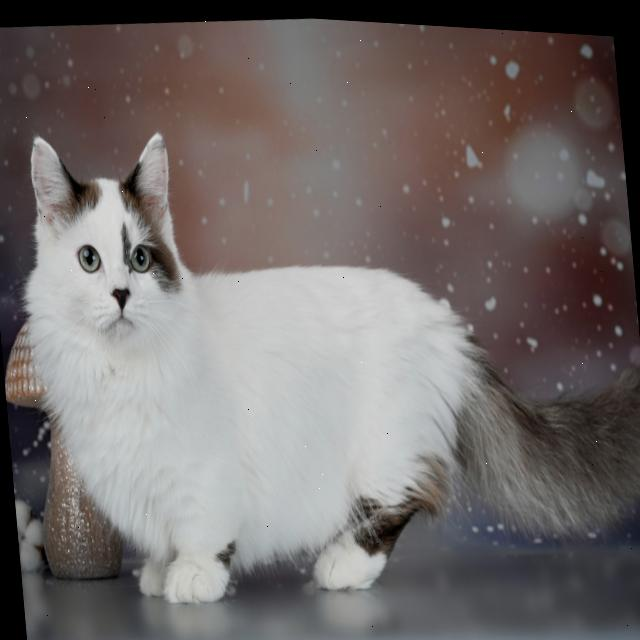Munchkin: (5, 76, 640, 640)
